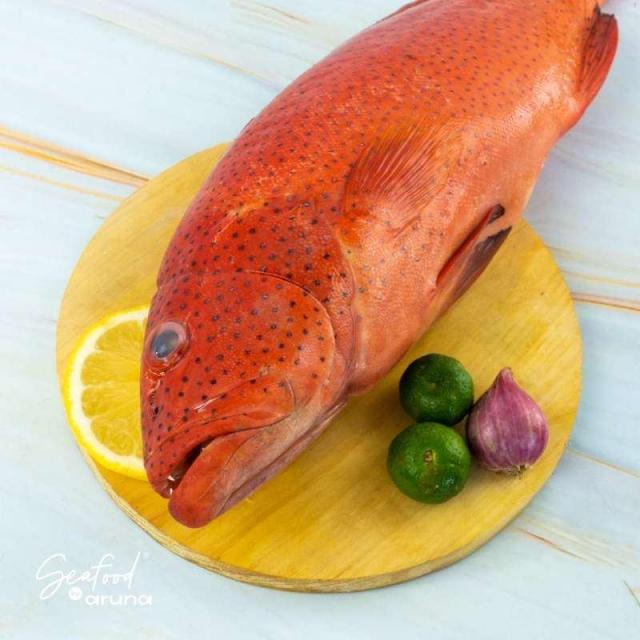Plectropomus-leopardus: (130, 0, 622, 552)
